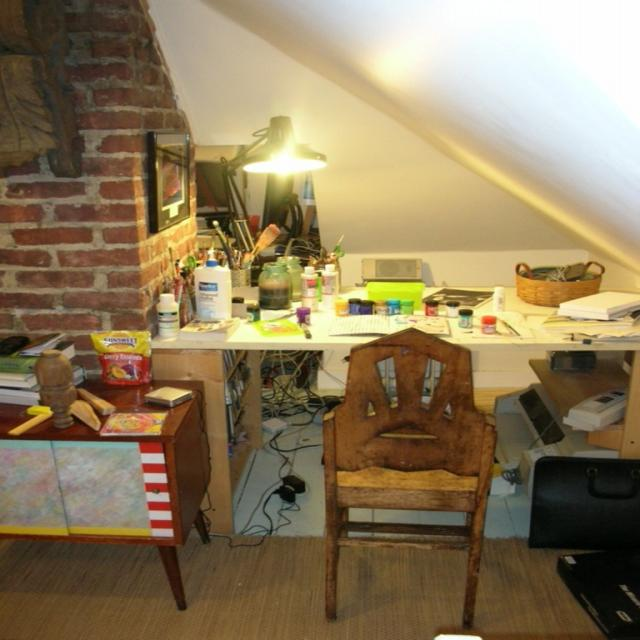chair: (321, 328, 497, 632)
desk: (146, 286, 639, 534)
keyboard: (328, 315, 404, 336)
